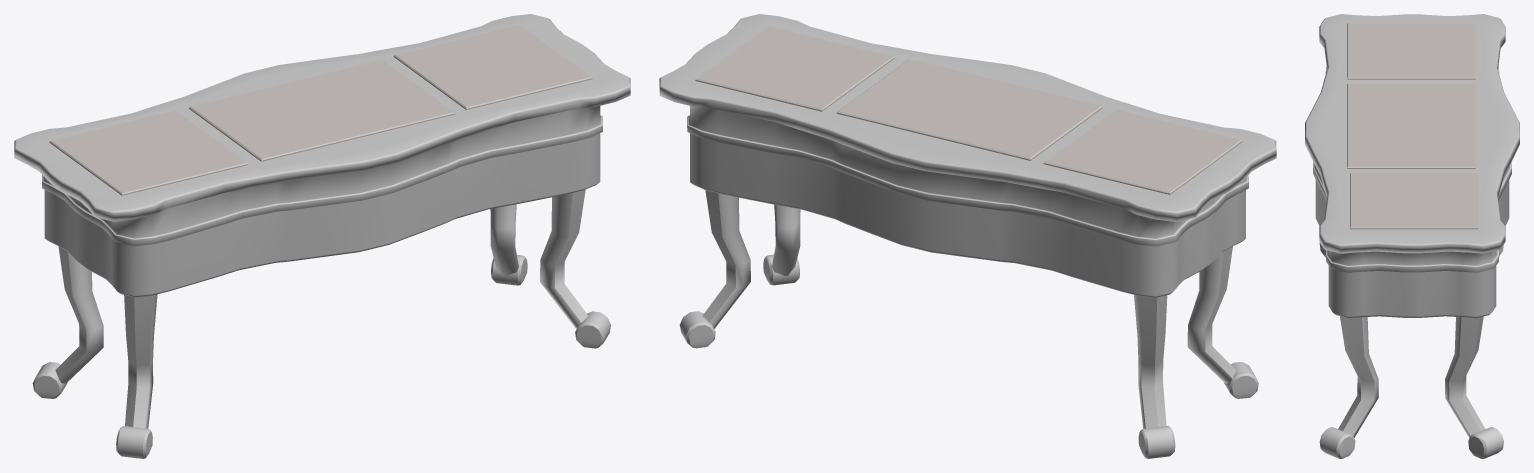
Rendered from Dinyng_Table.fbx.
The picture shows the model from 3 angles, left to right: view 1: azimuth 30°, elevation 25°; view 2: azimuth 150°, elevation 25°; view 3: azimuth 270°, elevation 25°; orthographic projection. The views are drawn at different scales.
Parts seen in each view (by area): view 1: Dinyng_Table; view 2: Dinyng_Table; view 3: Dinyng_Table.
Boxes of the visible parts, bbox=[...] form: Dinyng_Table: bbox=[14, 14, 630, 458]; Dinyng_Table: bbox=[659, 14, 1276, 458]; Dinyng_Table: bbox=[1305, 14, 1519, 458].
Size of the model in its own units: 290 by 134 by 114.
